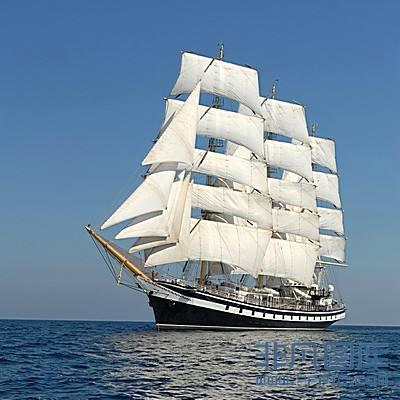fanchuan: (85, 41, 347, 330)
